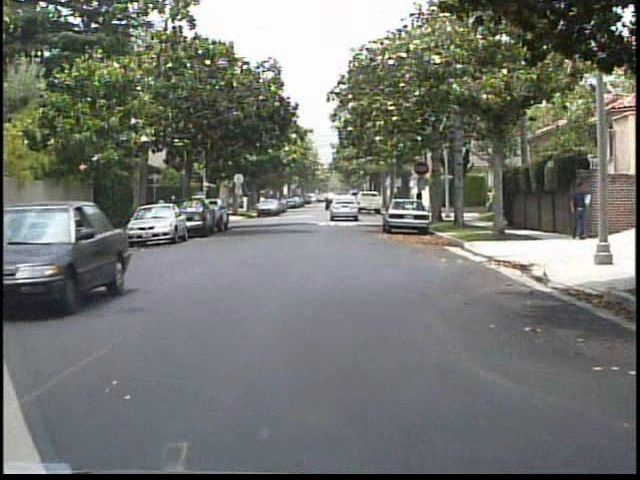person: (565, 177, 590, 244), (155, 192, 172, 231)
